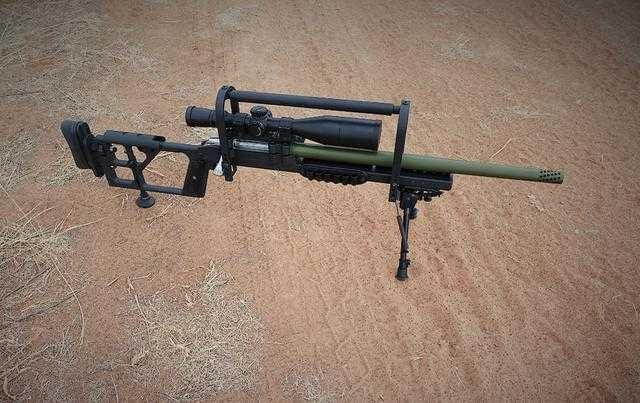heavyweapon: (47, 81, 576, 284)
